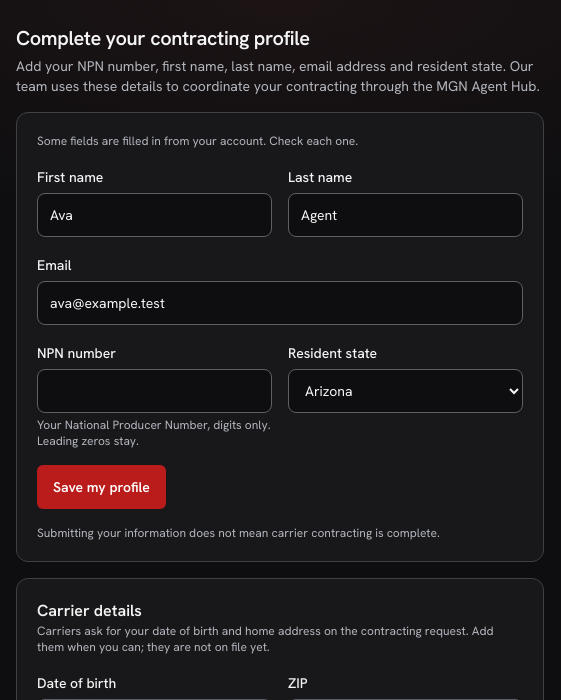
Test: Complete your contracting profile › shows a server refusal on its field and does not say saved
Expected: the field labelled "First name" is shown, 37,193 -> 272,237
Type "7654321" into the field labelled "NPN number" at (154, 391), box 37,369 -> 272,413
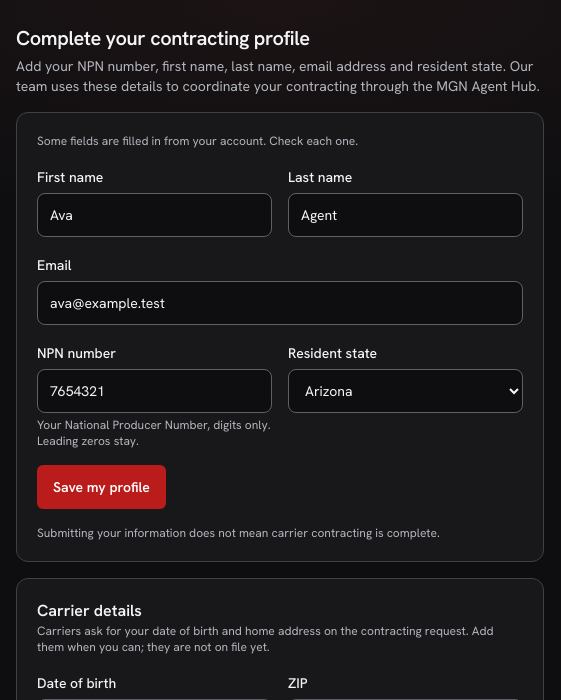
Click the button "Save my profile" at (102, 487), box 37,465 -> 166,509
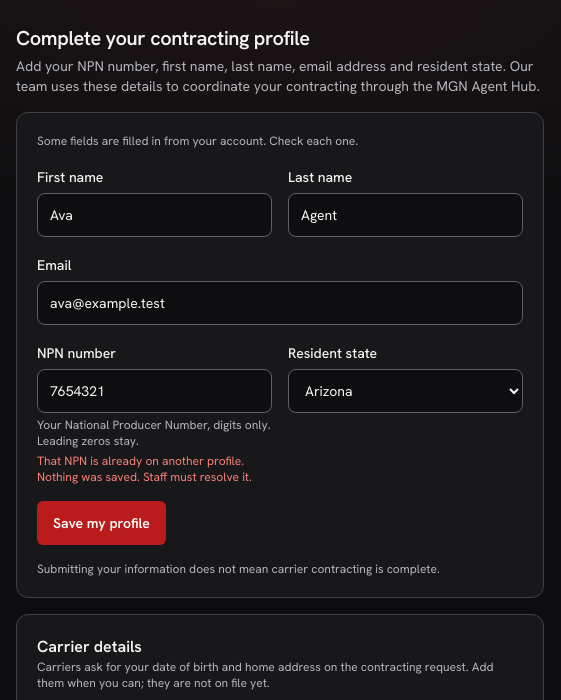
Now the message shows "already on another profile", box 37,453 -> 252,485
